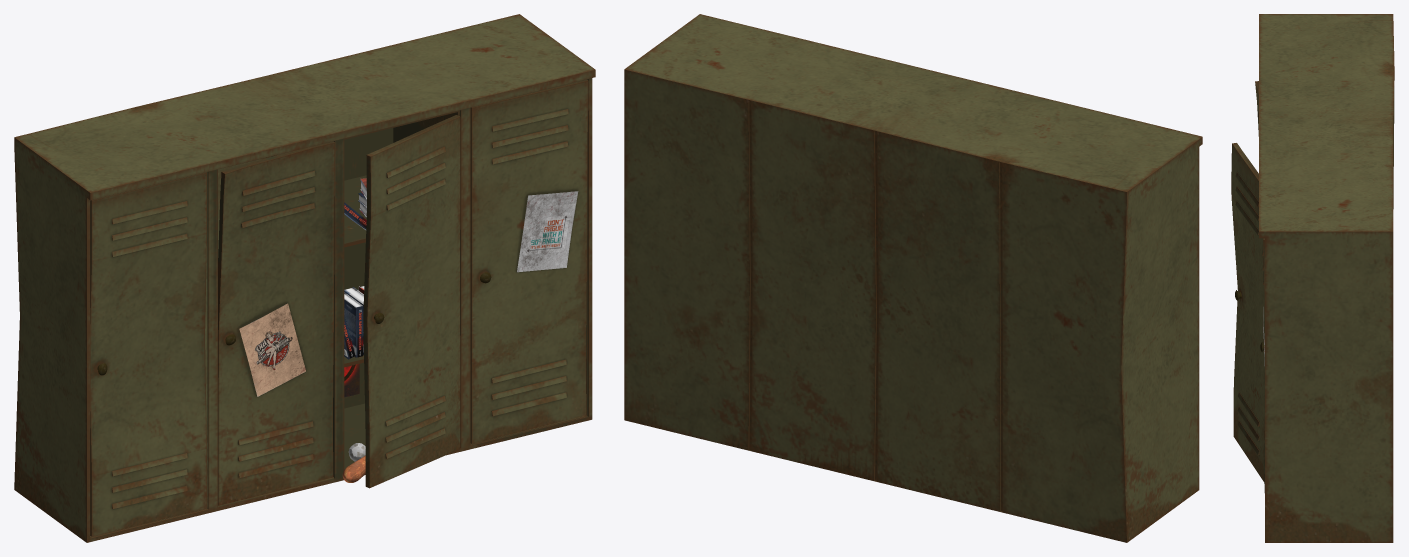
File: old_locker.glb
3 renders of one model, left to right at view 1: azimuth 30°, elevation 25°; view 2: azimuth 150°, elevation 25°; view 3: azimuth 270°, elevation 25°, orthographic. The views are drawn at different scales.
Visible parts, largest first — view 1: Handel5, Paper1, Book; view 2: Handel5; view 3: Handel5.
Boxes of the visible parts, x1,y1,x2,y2 form: Handel5: (14,14,595,542); Paper1: (239,191,578,397); Book: (344,178,366,359); Handel5: (624,14,1202,542); Handel5: (1231,14,1394,542).
Size of the model in its own units: 300 by 200 by 94.96.
Materials: 8 (8 with a texture image).
